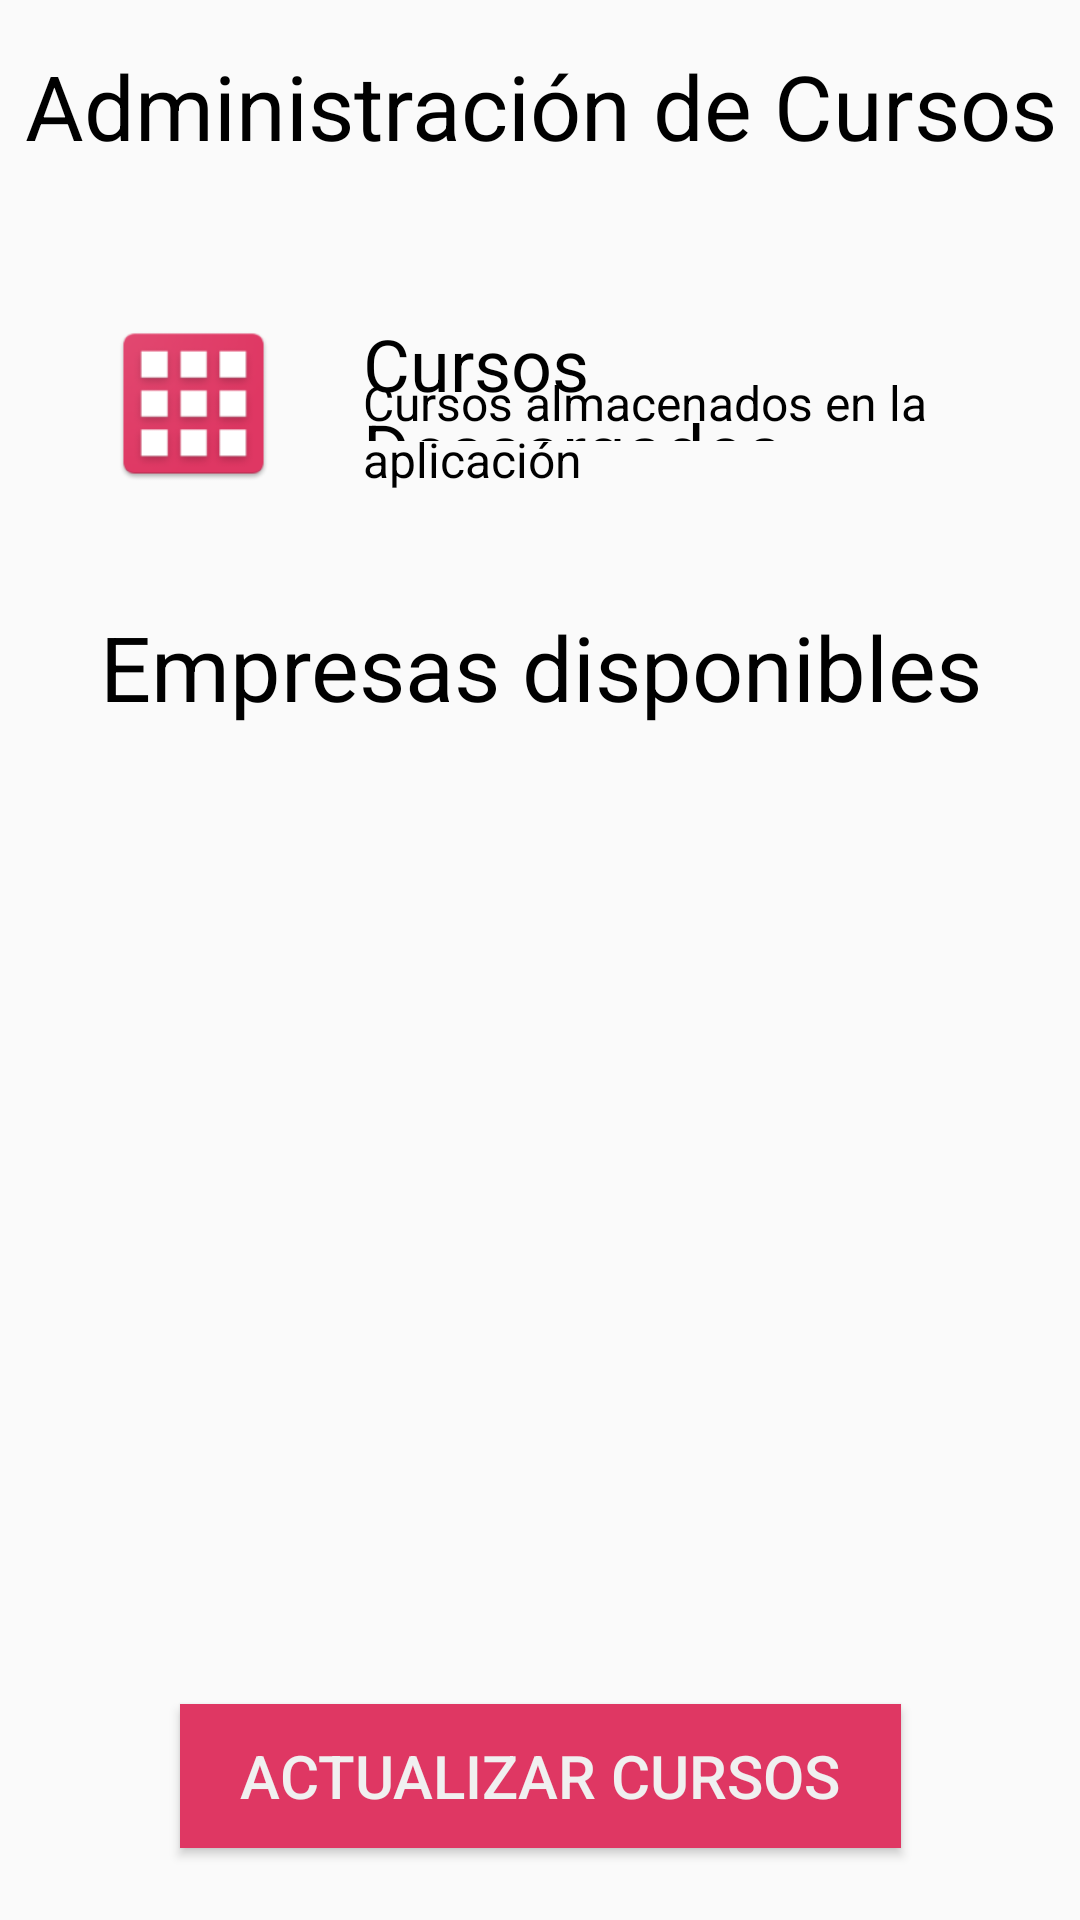

Icon bounding boxes for this 1080px×1920px phone screenshot, format [x1,y1,x2,y2]:
courses down: [123,333,265,477]
